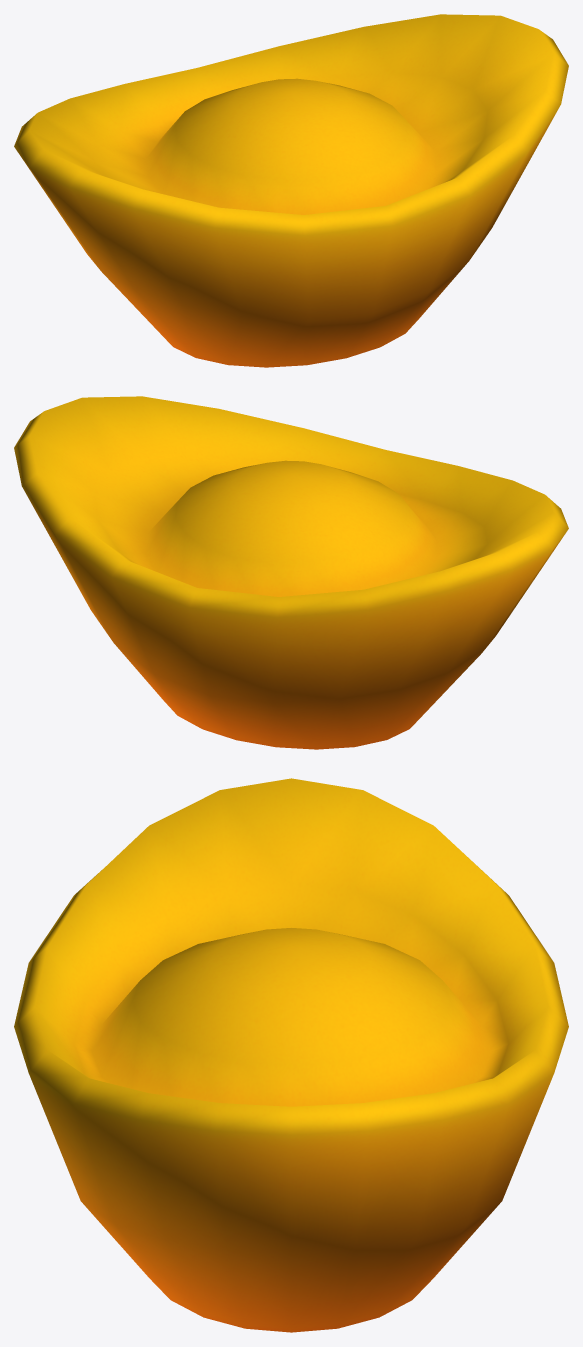
Rendered from ChineseGold.FBX.
3 renders of one model, top to bottom at view 1: azimuth 30°, elevation 25°; view 2: azimuth 150°, elevation 25°; view 3: azimuth 270°, elevation 25°, orthographic. The views are drawn at different scales.
Parts seen in each view (by area): view 1: ChineseGold; view 2: ChineseGold; view 3: ChineseGold.
Boxes of the visible parts, x1=… form: ChineseGold: x1=14, y1=14, x2=568, y2=367; ChineseGold: x1=14, y1=396, x2=568, y2=749; ChineseGold: x1=14, y1=778, x2=568, y2=1332.
Size of the model in its own units: 95.01 by 39.69 by 64.13.
Materials: 1 (1 with a texture image).
